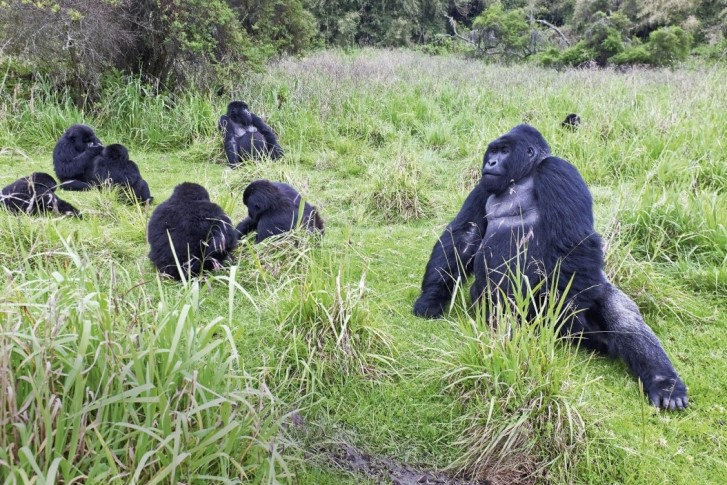Gorilla: (447, 133, 689, 408), (150, 178, 232, 278), (235, 177, 333, 249), (212, 95, 282, 167), (4, 168, 66, 228), (96, 146, 149, 209), (47, 126, 100, 189)
